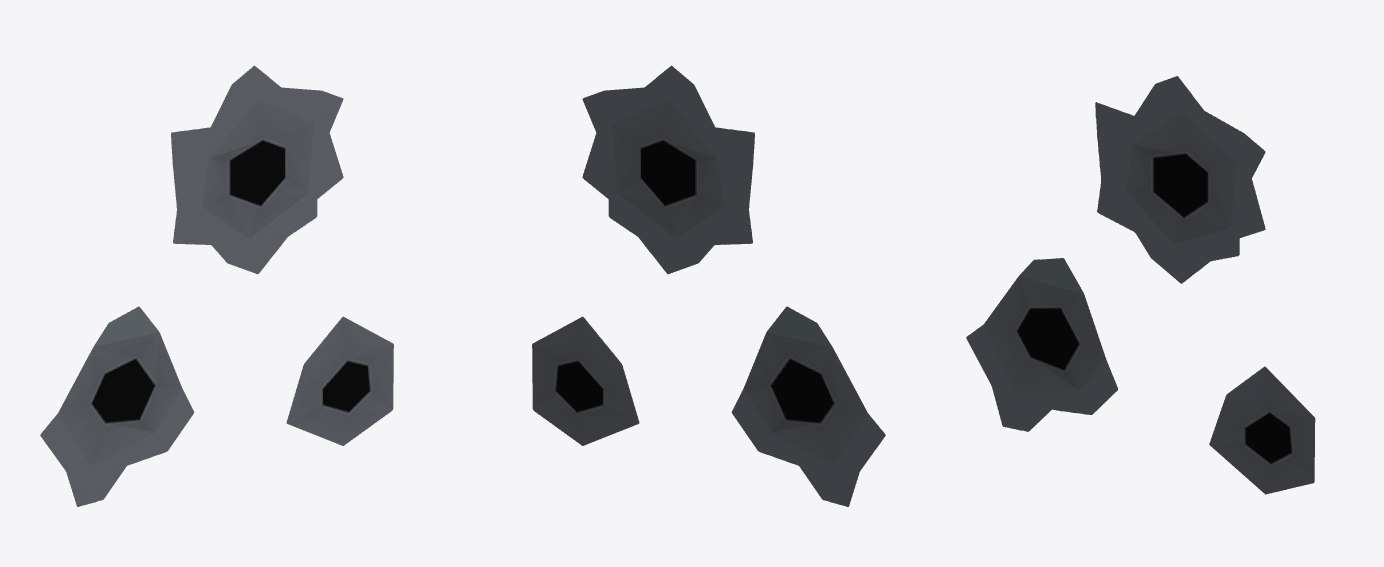
File: SM_Prop_Decal_Metal_09.fbx
3 views of the same model, side by side, from view 1: azimuth 30°, elevation 25°; view 2: azimuth 150°, elevation 25°; view 3: azimuth 330°, elevation 25° (orthographic).
Visible parts, largest first — view 1: SM_Prop_Decal_Metal_09; view 2: SM_Prop_Decal_Metal_09; view 3: SM_Prop_Decal_Metal_09.
Part boxes in pixels (x1,y1,x2,y2): SM_Prop_Decal_Metal_09: (40,65,393,506); SM_Prop_Decal_Metal_09: (532,65,885,506); SM_Prop_Decal_Metal_09: (966,76,1315,494).
Bounding box in the file's own units: 26.37 × 25.49 × 0.
